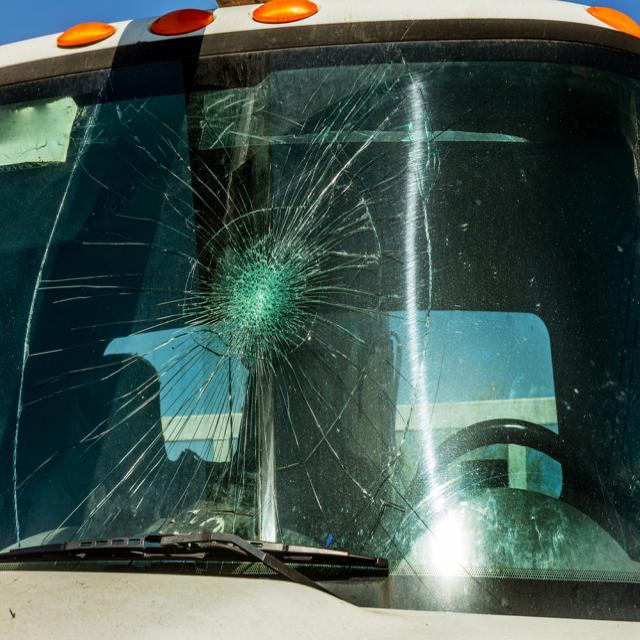Fissure: (130, 99, 385, 484), (0, 39, 146, 552), (363, 29, 463, 548), (145, 457, 363, 556)
